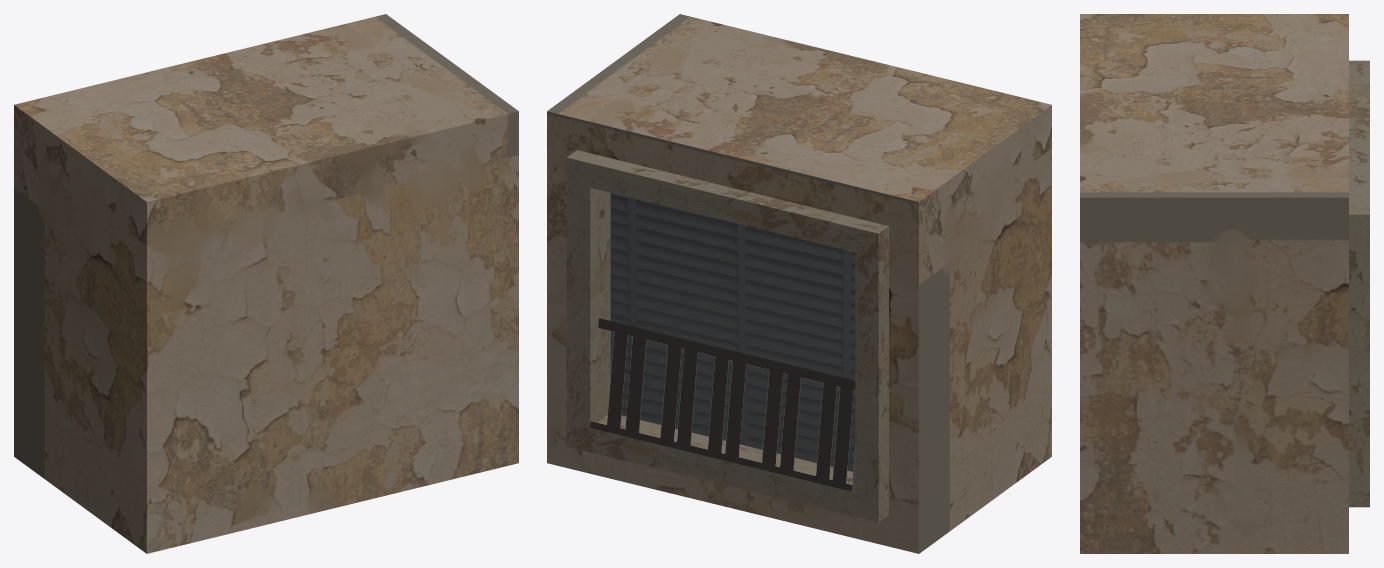
File: House6.fbx
The picture shows the model from 3 angles, left to right: view 1: azimuth 30°, elevation 25°; view 2: azimuth 150°, elevation 25°; view 3: azimuth 270°, elevation 25°; orthographic projection.
Parts seen in each view (by area): view 1: House6; view 2: House6; view 3: House6.
Part boxes in pixels (x1=…): House6: x1=14, y1=14, x2=518, y2=553; House6: x1=547, y1=14, x2=1051, y2=553; House6: x1=1080, y1=14, x2=1369, y2=553.
Size of the model in its own units: 992 by 897 by 661.
